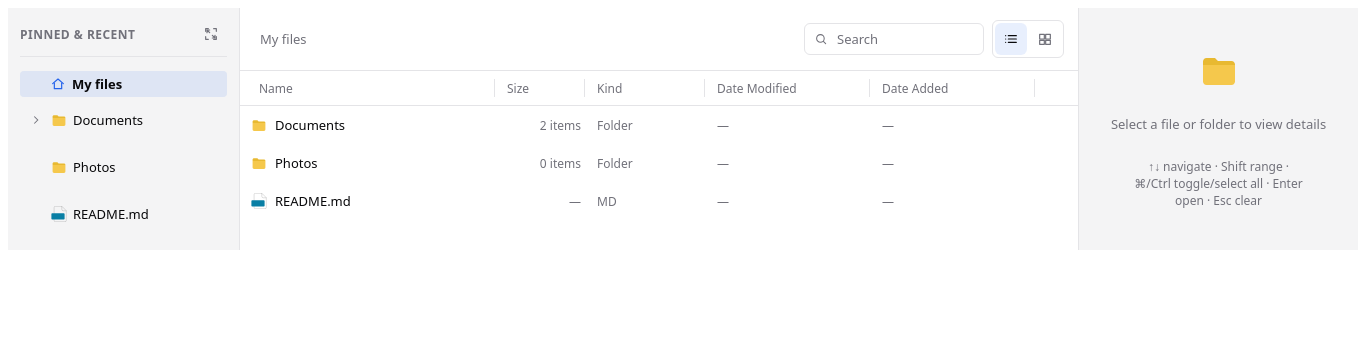
FileManager characterization › toggles all sidebar folders between expanded and collapsed
Click the button named "Expand all" at (211, 34), box x1=197 y1=20 x2=225 y2=48
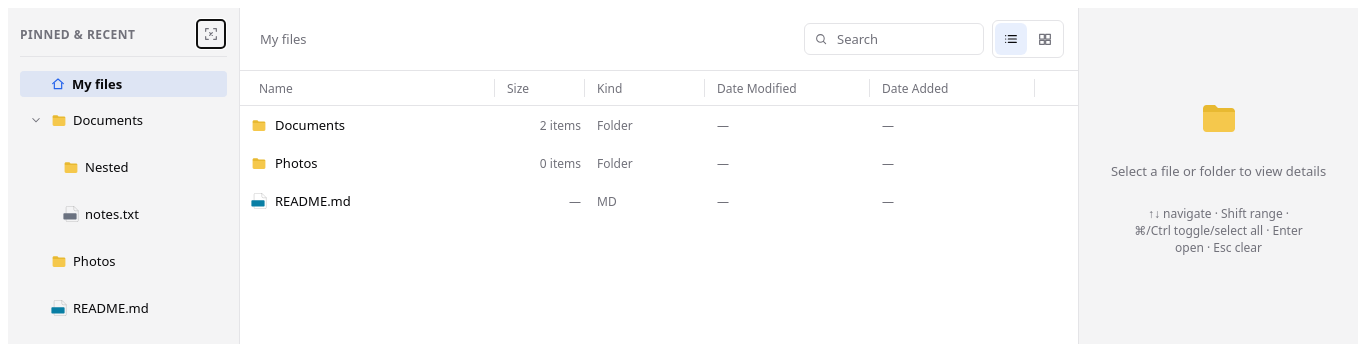
Now the list item "Nested" is shown, box x1=63 y1=158 x2=128 y2=176
Now the button named "Collapse all" is shown
Click the button named "Collapse all" at (211, 34), box x1=197 y1=20 x2=225 y2=48
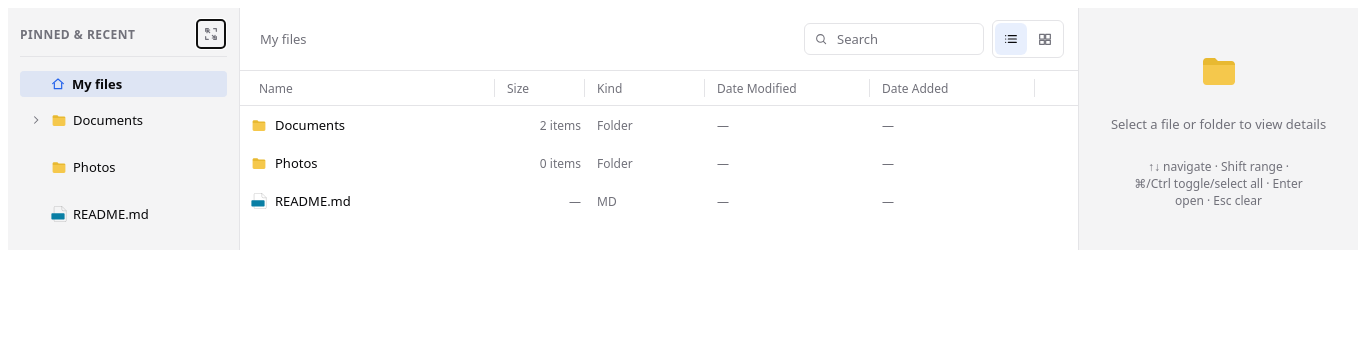
Now the text "Nested" is gone
